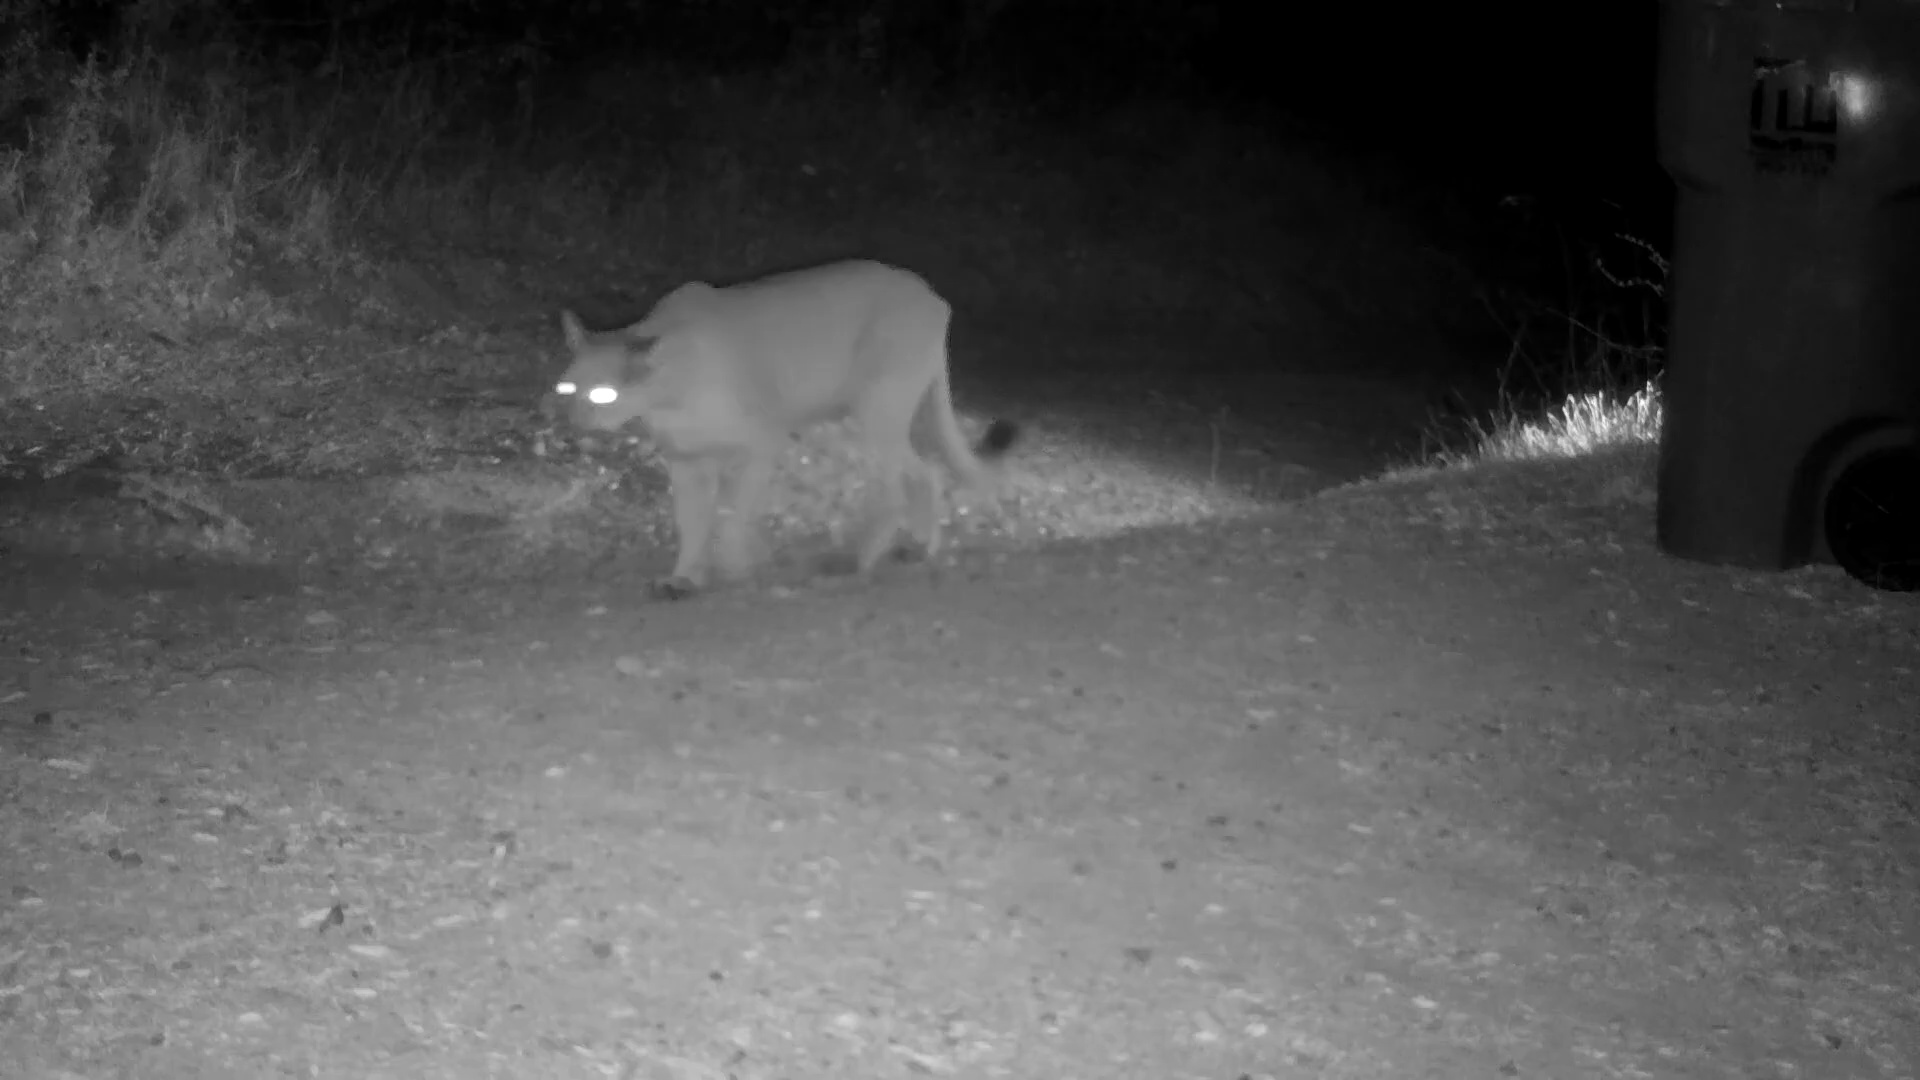Lion: (549, 255, 1025, 607)
